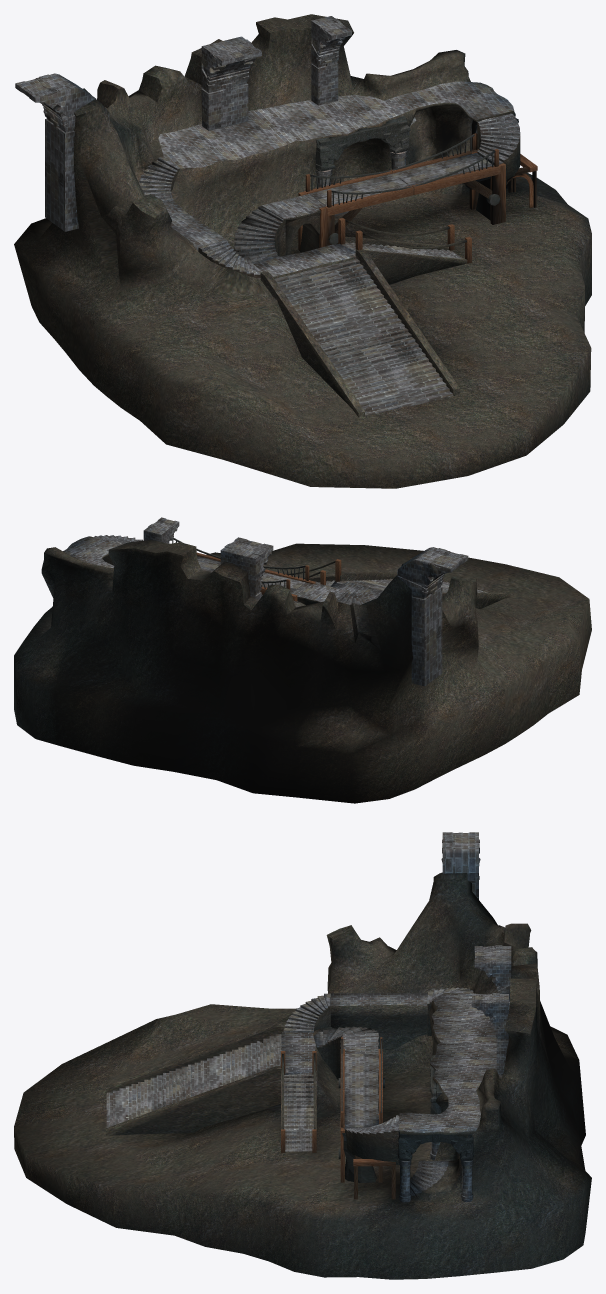
The model's file is env_hk_anim_level.glb.
3 views of the same model, one above another, from view 1: azimuth 30°, elevation 25°; view 2: azimuth 150°, elevation 25°; view 3: azimuth 270°, elevation 25° (orthographic). The views are drawn at different scales.
Parts seen in each view (by area): view 1: Level; view 2: Level; view 3: Level.
Part boxes in pixels (x1=…): Level: x1=14, y1=14, x2=591, y2=488; Level: x1=14, y1=517, x2=591, y2=803; Level: x1=14, y1=832, x2=591, y2=1279.
Size of the model in its own units: 33.72 by 16.62 by 37.77.
5 materials, 5 textured.
